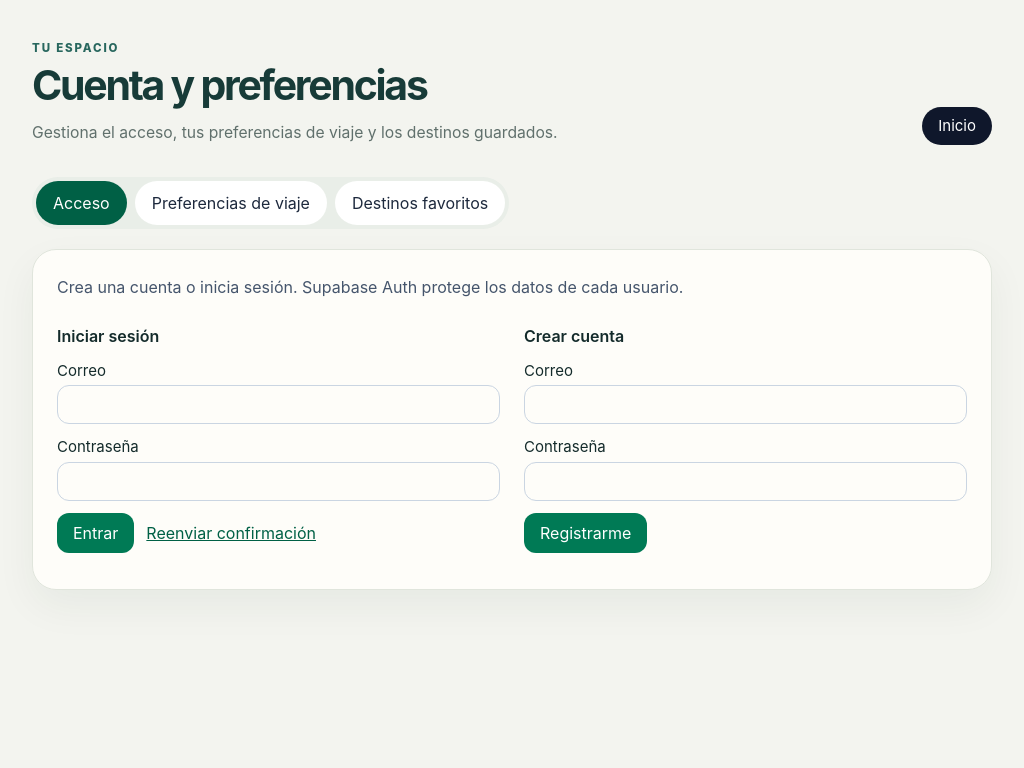
autenticación de Cuenta › acepta un registro que devuelve sesión inmediata
Step 1. Type "ana@example.com" into the field labelled "Correo" below "Crear cuenta" → (746, 405), box [524,385,967,424]
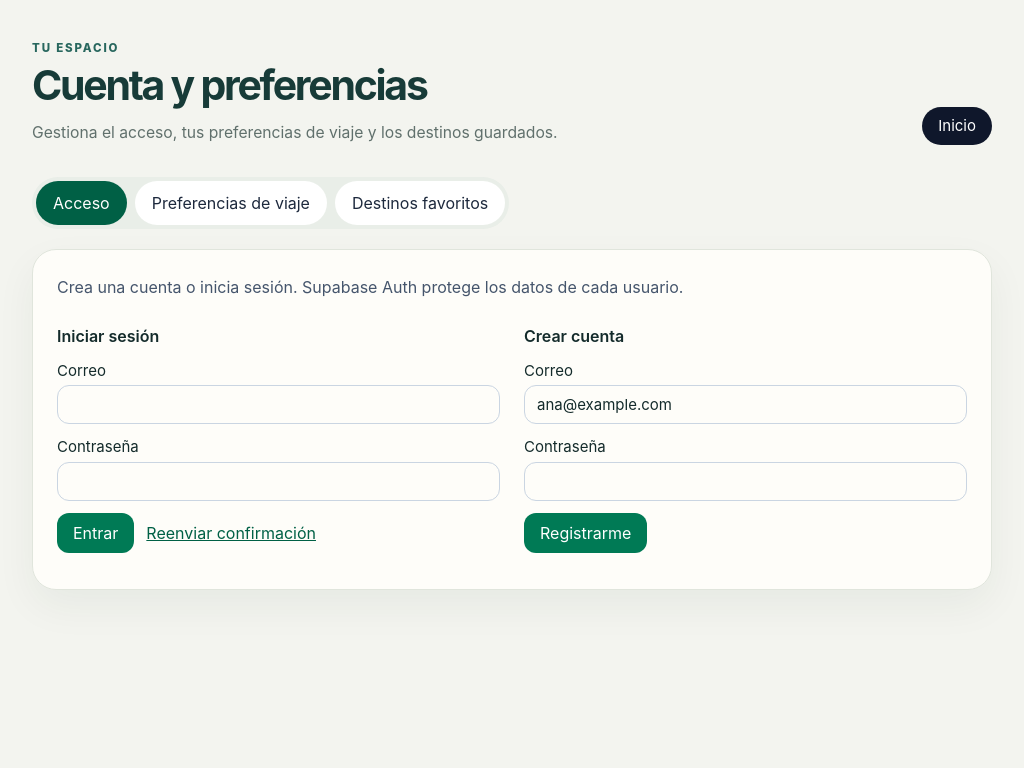
Step 2. Type "clave-prueba-123" into the password field labelled "Contraseña" below "Crear cuenta" → (746, 482), box [524,462,967,501]
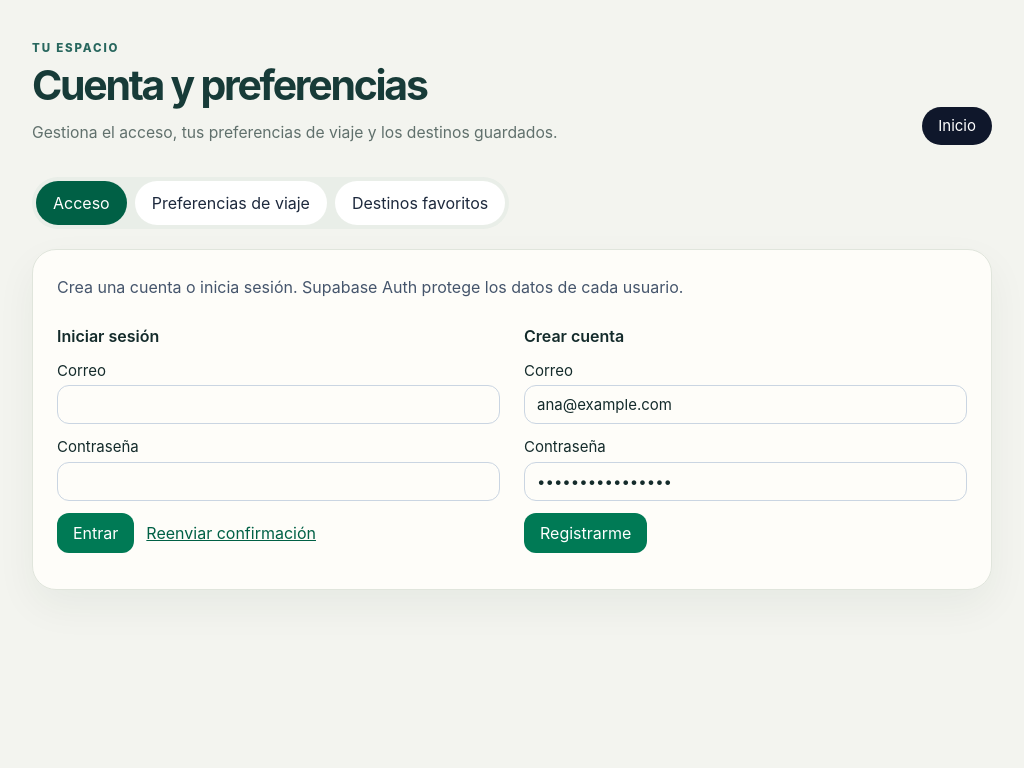
Step 3. Click the button "Registrarme" → click(586, 533), box [524,513,647,553]
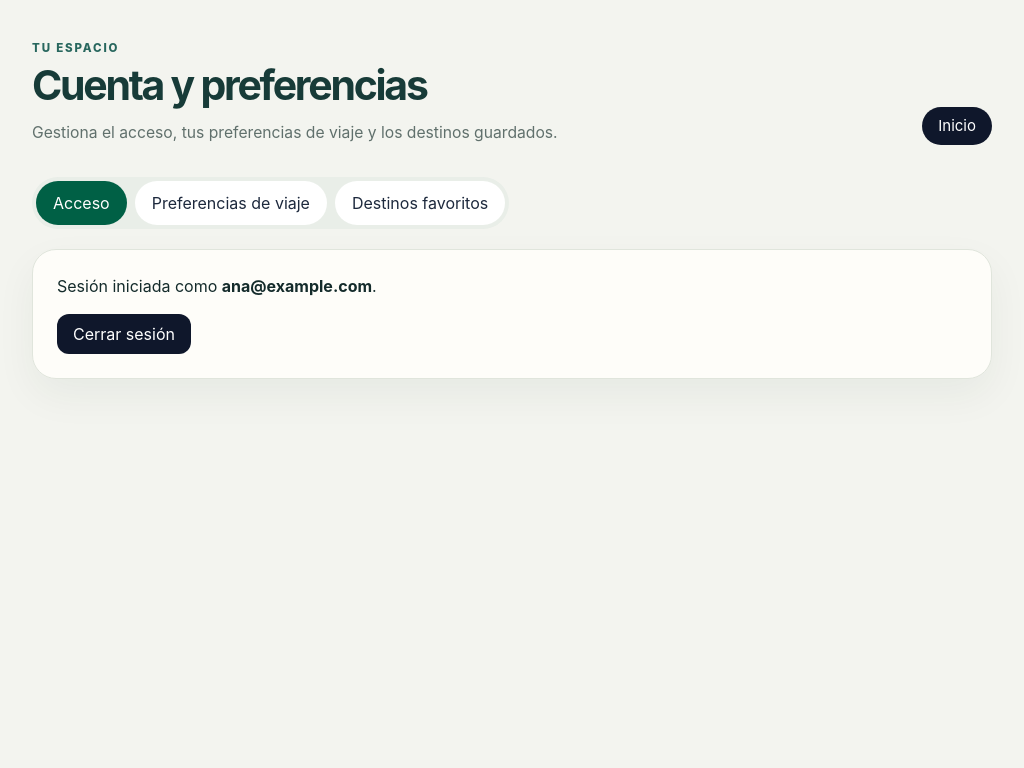
Now the text "ana@example.com" is shown, box [222,276,372,296]
